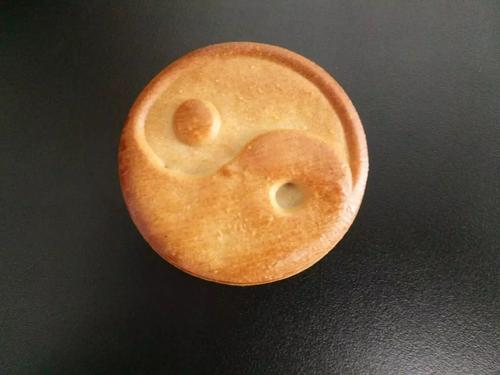MoonCake: (115, 40, 371, 286)
